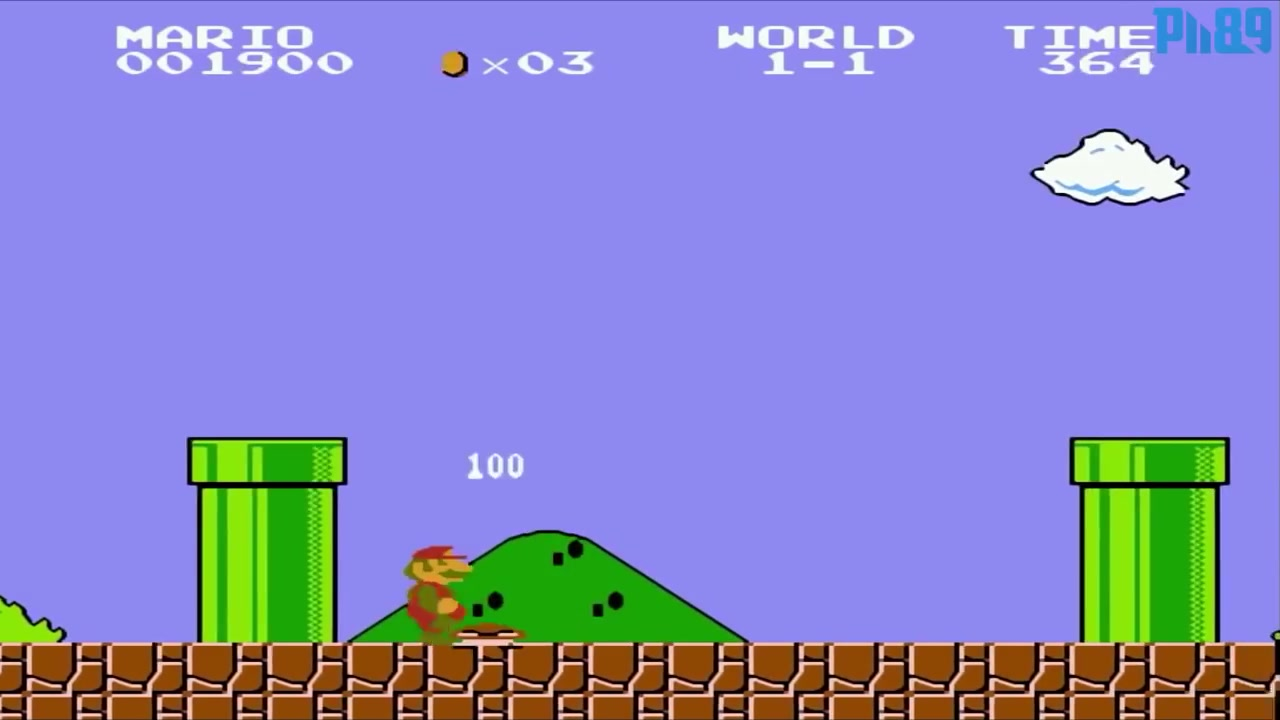mario: (393, 540, 474, 645)
